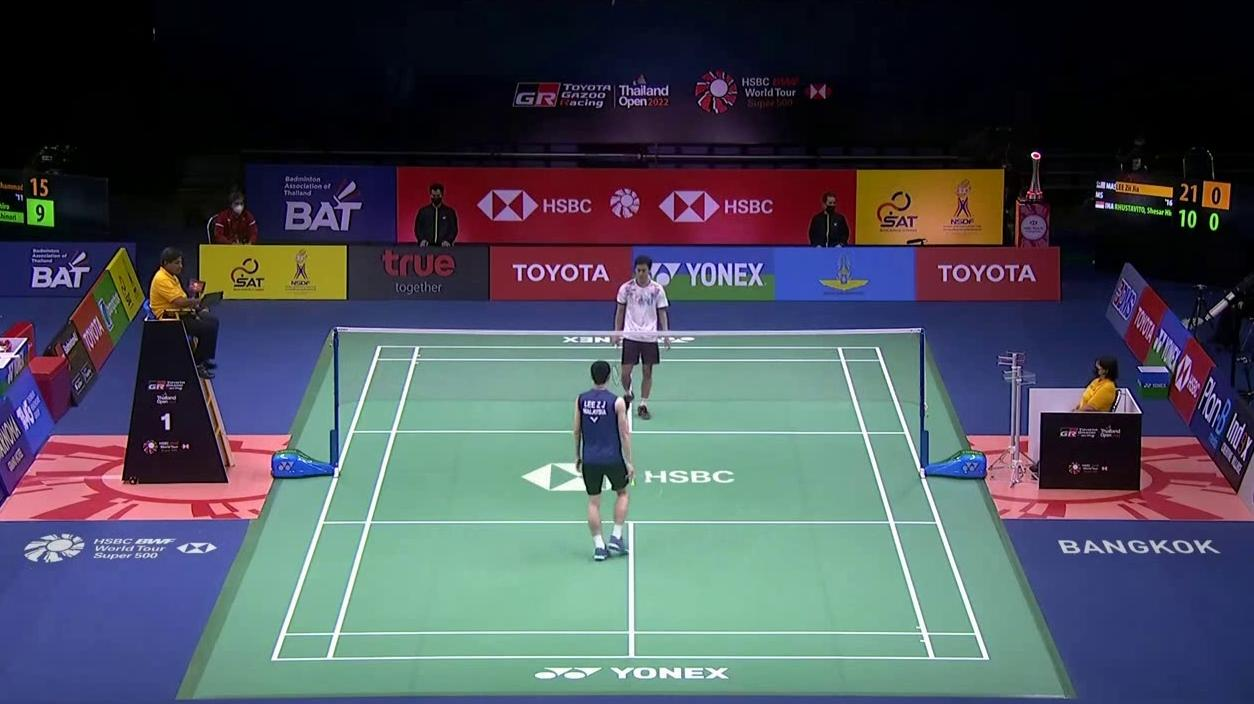racket: (612, 335, 621, 386)
shuttle: (645, 472, 652, 478)
